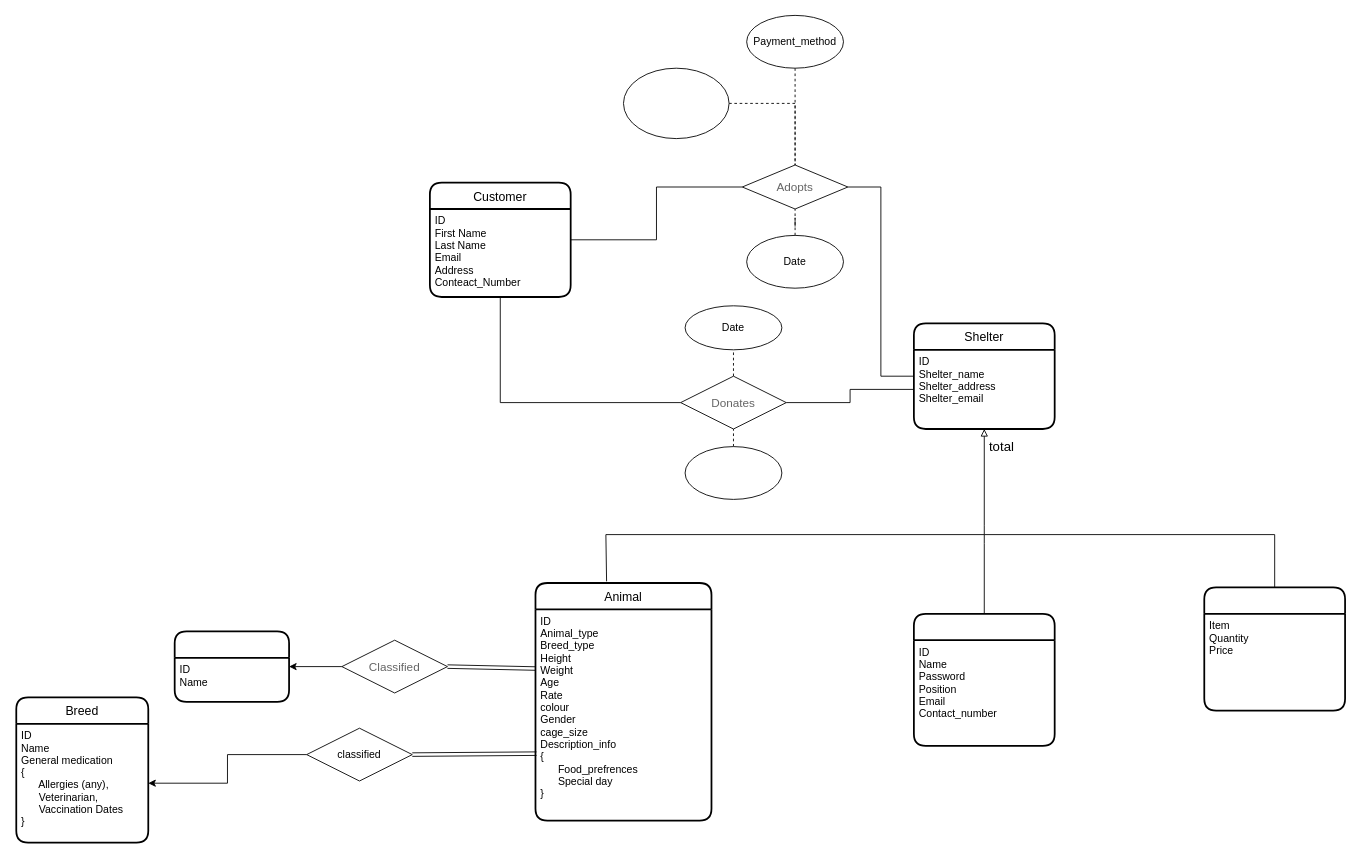
The diagram is 1360 pixels wide and 859 high, and some of its shapes have lost their labels. Each missing label, with the box of its shape:
adoption_info: (623, 67, 729, 139)
Donation_info: (684, 446, 782, 499)
Pet Accessories: (1203, 586, 1346, 711)
Staff: (913, 612, 1055, 746)
Type: (173, 630, 290, 702)
